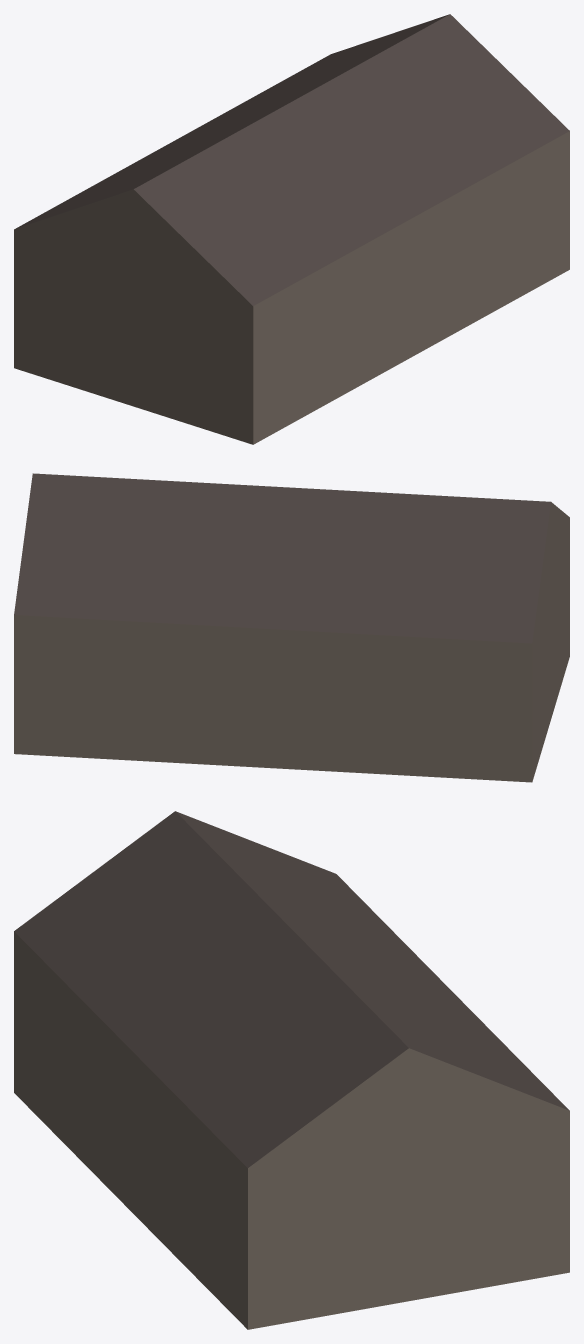
3 views of the same model, one above another, from view 1: azimuth 30°, elevation 25°; view 2: azimuth 150°, elevation 25°; view 3: azimuth 270°, elevation 25° (orthographic). The views are drawn at different scales.
Visible parts, largest first — view 1: HP-w369342521; view 2: HP-w369342521; view 3: HP-w369342521.
Part boxes in pixels (bbox=[...]): HP-w369342521: bbox=[14, 14, 569, 444]; HP-w369342521: bbox=[14, 473, 569, 782]; HP-w369342521: bbox=[14, 811, 569, 1329].
Size of the model in its own units: 23.45 by 9.4 by 18.72.
